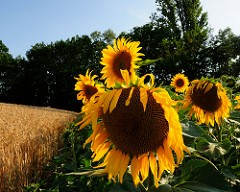flower: (75, 78, 187, 187), (178, 76, 234, 128), (98, 37, 146, 90), (73, 68, 105, 105), (170, 73, 189, 94)
